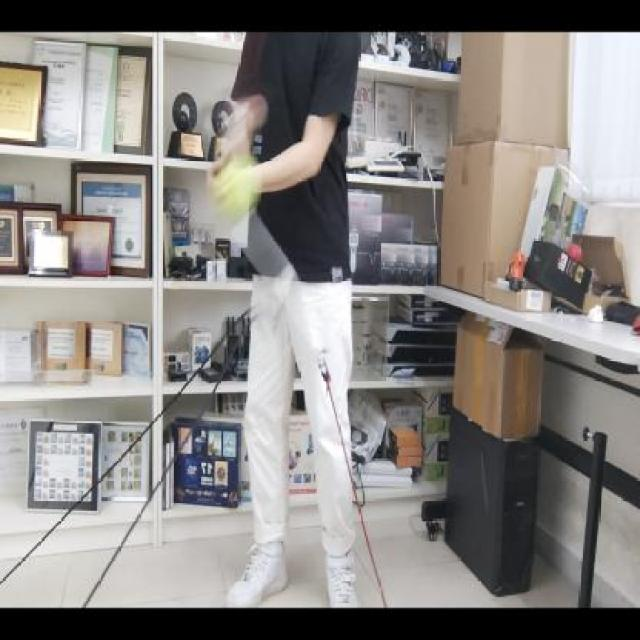baseball: (208, 150, 266, 228)
